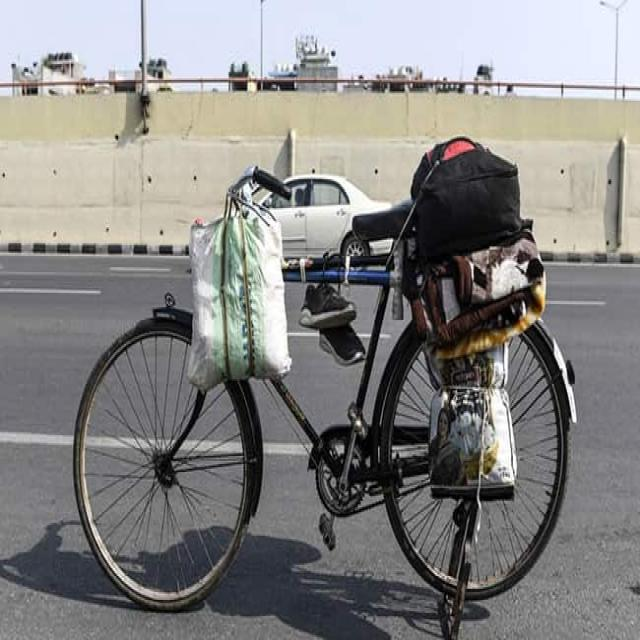bicycle: (74, 136, 576, 635)
car: (264, 173, 392, 258)
